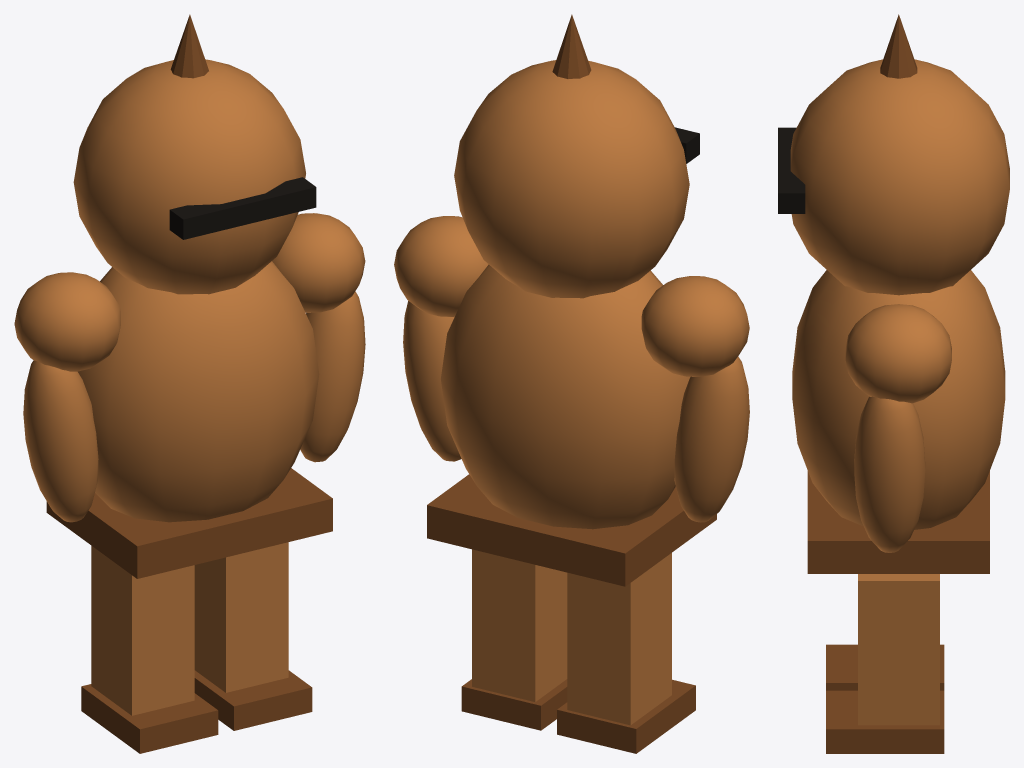
File: armour-copper.glb
The picture shows the model from 3 angles, left to right: view 1: azimuth 30°, elevation 25°; view 2: azimuth 150°, elevation 25°; view 3: azimuth 270°, elevation 25°; orthographic projection.
Parts seen in each view (by area): view 1: armour-copper; view 2: armour-copper; view 3: armour-copper.
Boxes of the visible parts, x1,y1,x2,y2 form: armour-copper: (14,14,365,753); armour-copper: (394,14,749,753); armour-copper: (778,14,1009,753).
Bounding box in the file's own units: 0.86 × 1.69 × 0.5087.
